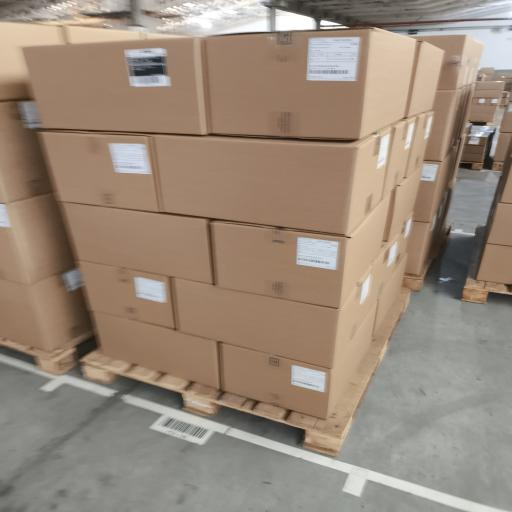pallet: (81, 289, 409, 455), (0, 332, 93, 375), (462, 227, 511, 303), (403, 223, 451, 291), (462, 279, 511, 303), (461, 161, 483, 170), (492, 162, 503, 171)
